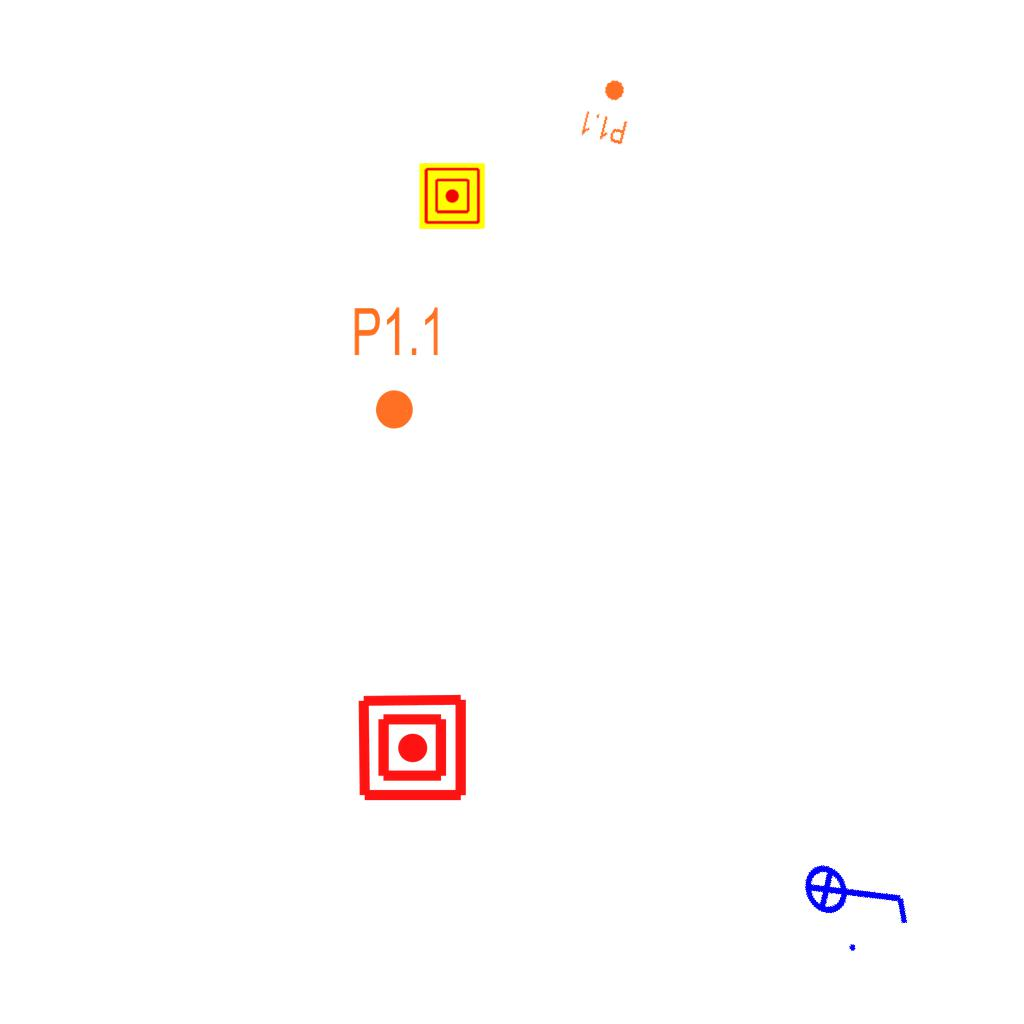Ausschalter_beleuchtet: (789, 822, 925, 966)
Downlight_LED_Einbauleuchten_Flur: (351, 304, 444, 432), (577, 73, 639, 147)
NAM-Nichtautomatischer_Melder: (356, 691, 469, 804), (419, 163, 485, 229)
